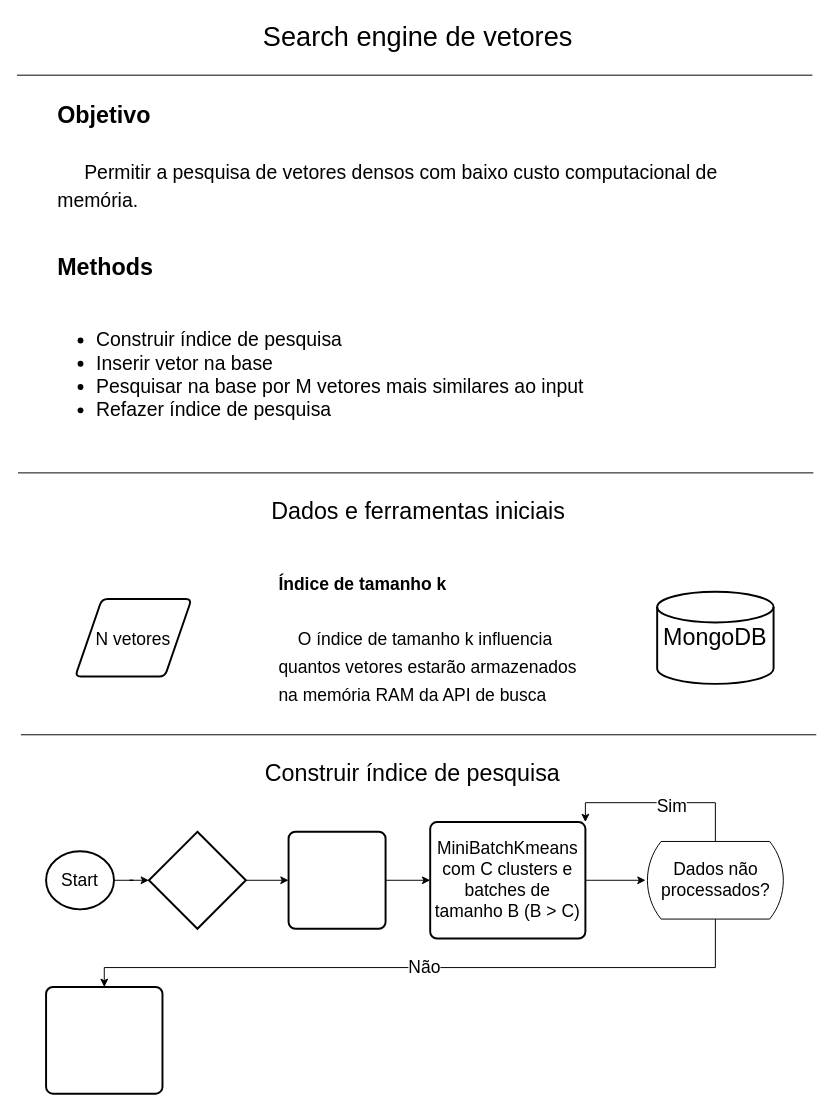
The diagram is 834 pixels wide and 1111 high, and some of its shapes have lost their labels. The shapes that lost their labels are listed below. From the top down, each one's centre as x and y in pixels, then its label:
At pixel 196 879: "# clusters?".
At pixel 336 879: "C = N / k".
At pixel 104 1040: "Encontrar C clusters mais próximos das centroides".
